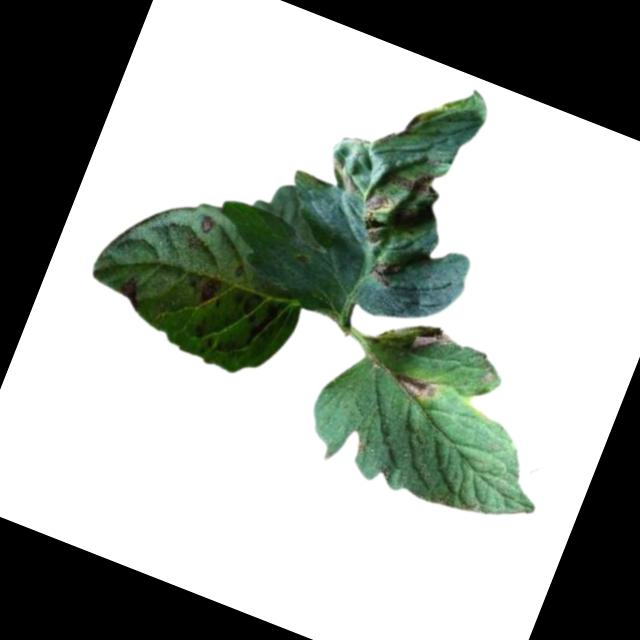Early_blight: (352, 190, 398, 247), (392, 161, 445, 204), (393, 366, 441, 406), (407, 318, 453, 359), (363, 257, 401, 289), (193, 271, 223, 307), (117, 272, 147, 307), (195, 214, 218, 237)
